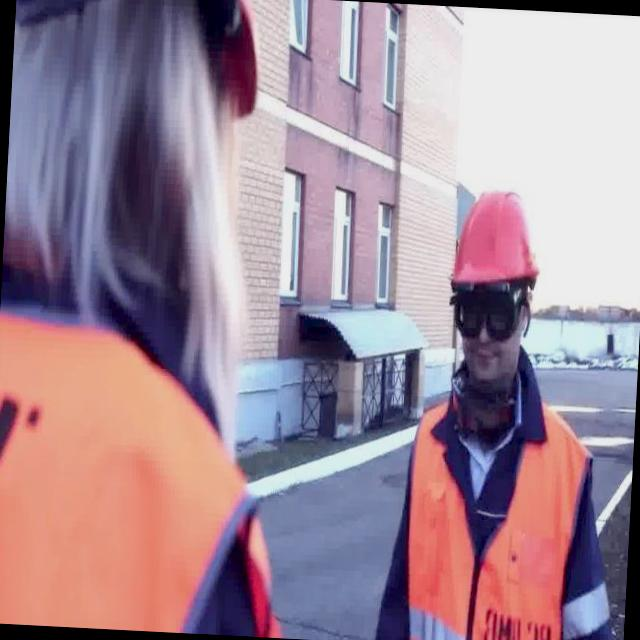vest: (0, 304, 304, 638), (407, 392, 592, 640)
